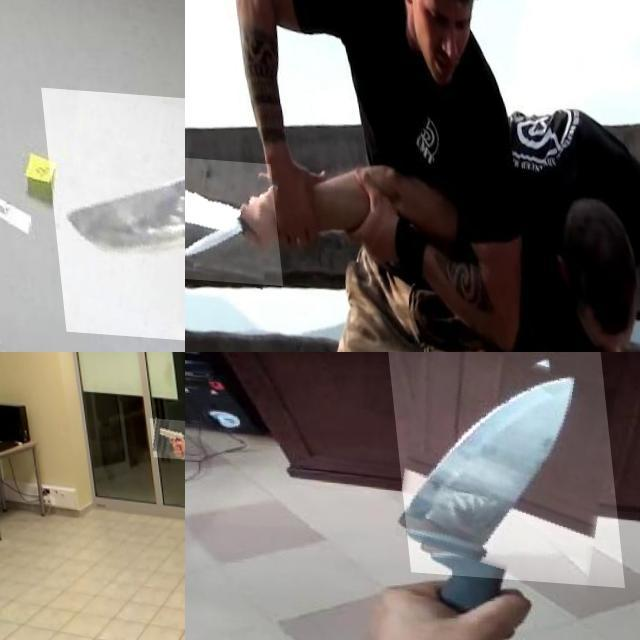-: (383, 352, 617, 580), (34, 84, 185, 343), (185, 155, 273, 284)
gun-knife-thesis - v11 Yolov5 augmented: (142, 415, 185, 456)
